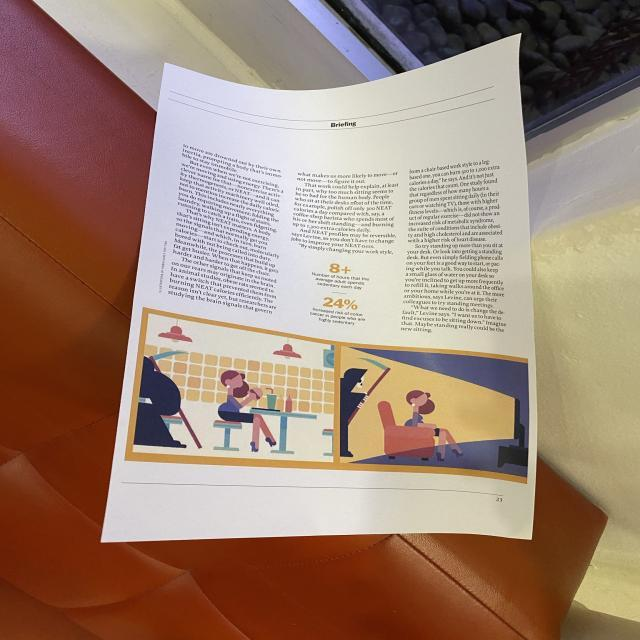document: (102, 36, 537, 542)
